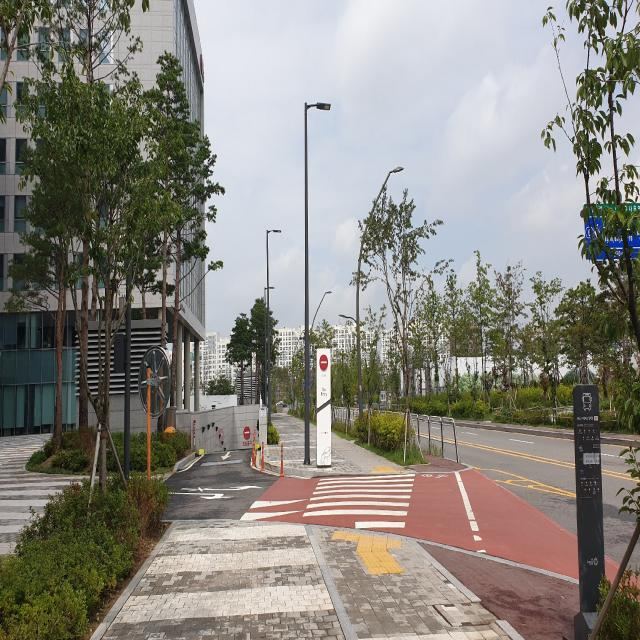횡단보도: (302, 472, 416, 530)
